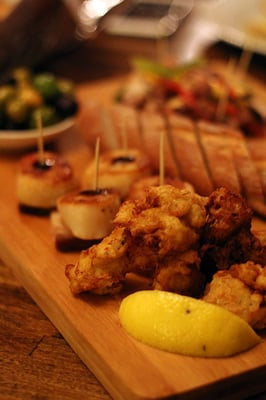curry: (0, 49, 266, 400)
sandwich: (15, 105, 80, 214)
